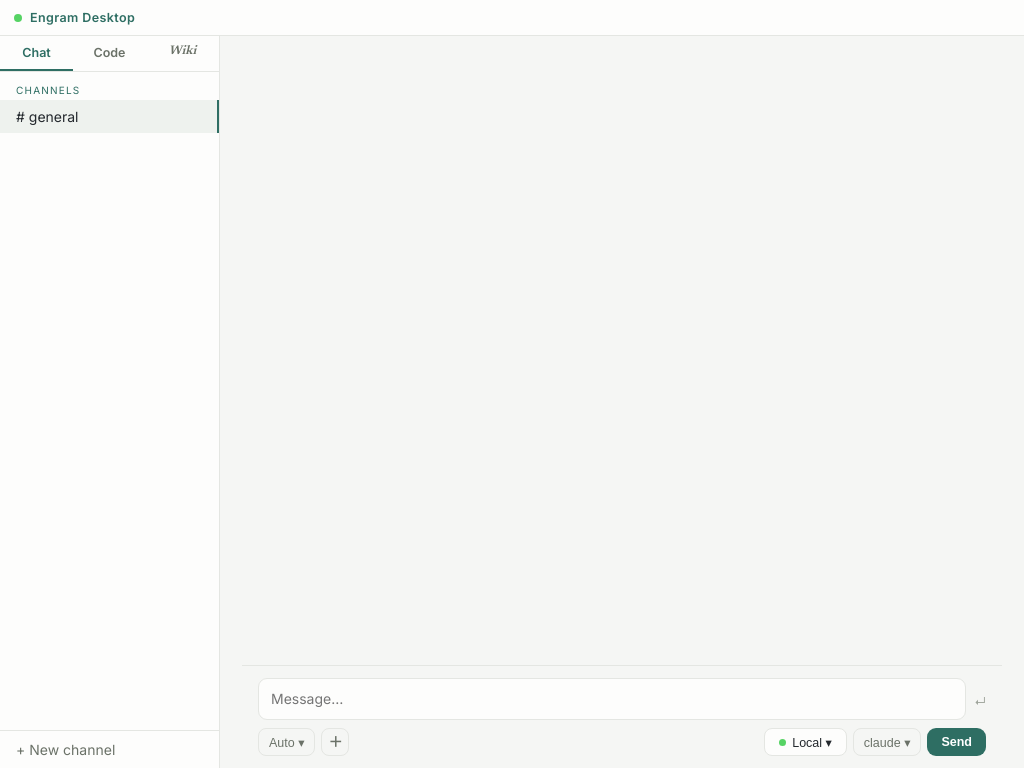
Scenario: A. 입력바 2줄 배치 › 생성 중엔 보내기가 중지 버튼으로 바뀐다(기존 동작 유지)
The width and height of the screenshot is (1024, 768).
Check: the text "# general" is shown, box [16,108,78,125]
In the text box with placeholder "Message…": (612, 699) [258,678,966,720], type "질문"
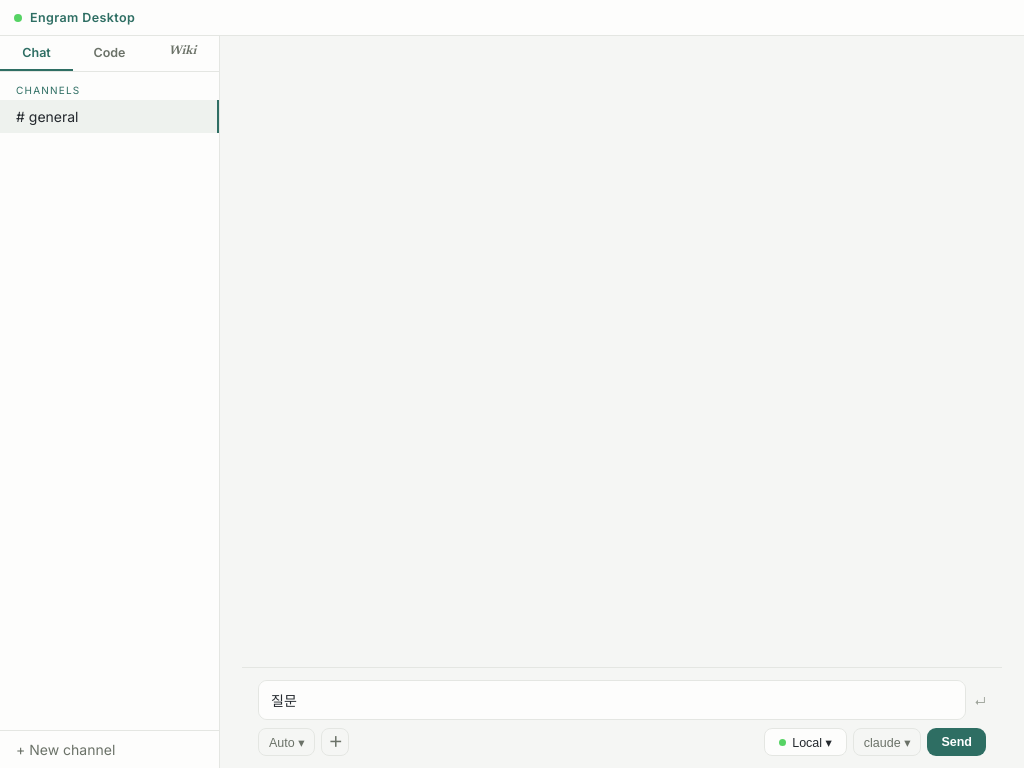
Press Enter in the text box, box [258,680,966,720]
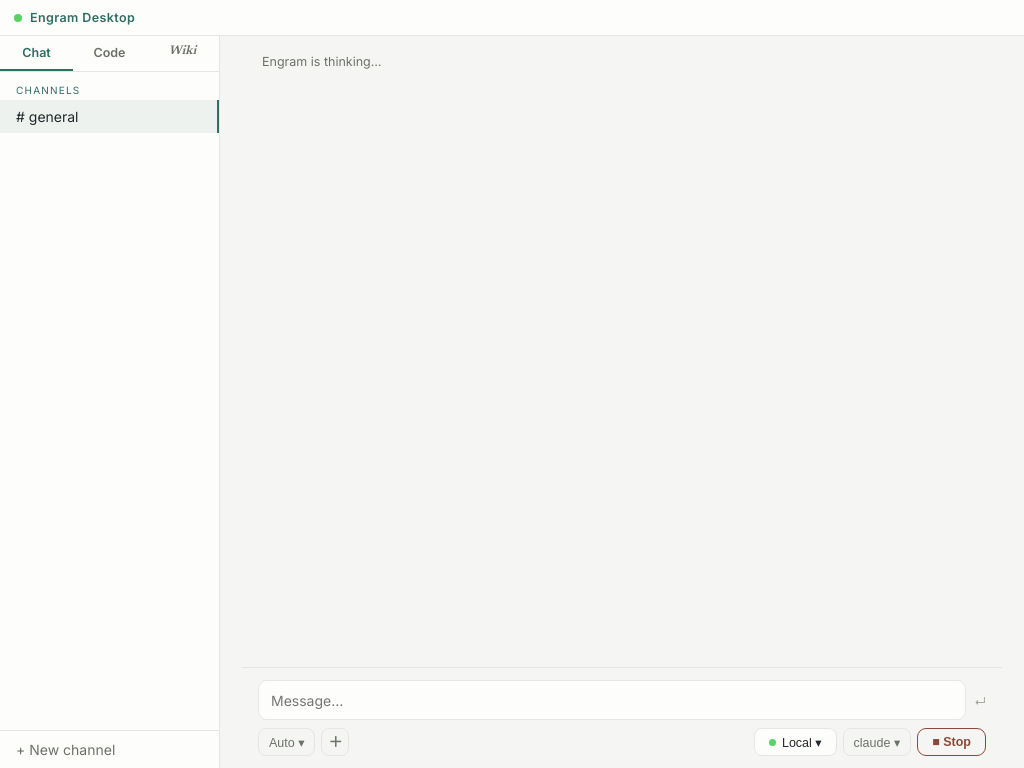
Check: the button "Send" is gone
